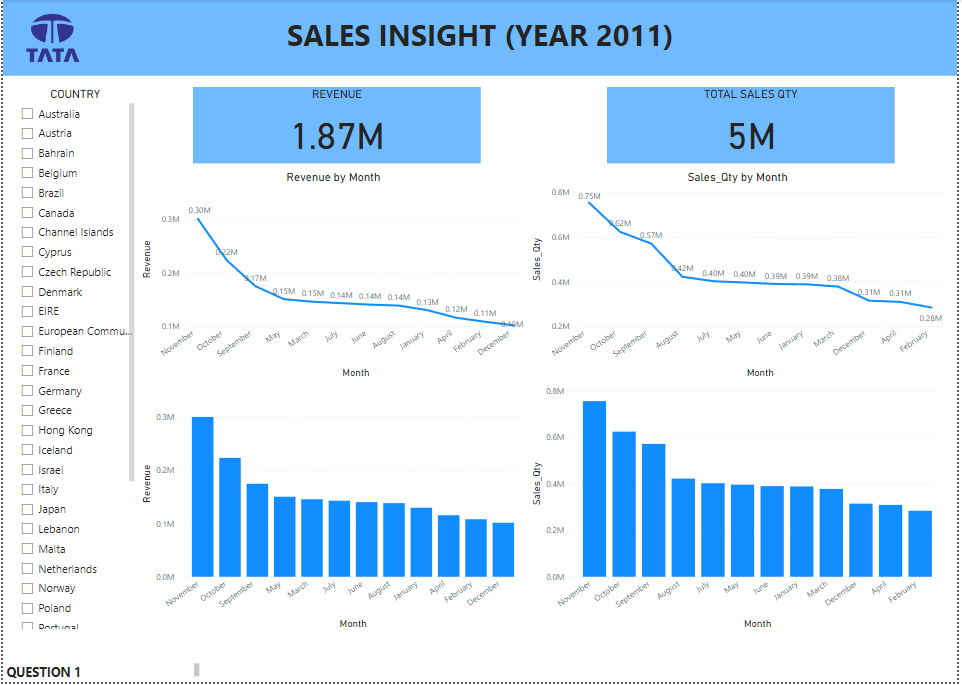

What the dashboard file says about the page in this screenshot:
{"tool":"powerbi","page":{"name":"Question 1","canvas":[1400,1000],"ordinal":0},"visuals":[{"type":"card","title":"REVENUE","fields":{"Values":["Base Measure.Revenue"]},"box":[278,127.3,422,112.2],"z":0},{"type":"card","title":"TOTAL SALES QTY","fields":{"Values":["Base Measure.Sales_Qty"]},"box":[885.9,127.3,422,112.2],"z":1000},{"type":"lineChart","fields":{"Category":["Online Retail.Month"],"Y":["Base Measure.Sales_Qty"]},"box":[770.3,249.5,614.6,309.8],"z":3000},{"type":"lineChart","fields":{"Y":["Base Measure.Revenue"],"Category":["Online Retail.Month"]},"box":[197.6,249.5,572.7,309.8],"z":4000},{"type":"slicer","title":"COUNTRY","fields":{"Values":["Online Retail.Country"]},"box":[15.1,127.3,182.5,800.5],"z":5000},{"type":"textbox","box":[0,0,1400,110.5],"z":6000},{"type":"lineClusteredColumnComboChart","fields":{"Category":["Online Retail.Month"],"Y":["Base Measure.Revenue"]},"box":[197.6,559.3,572.7,368.4],"z":7000},{"type":"lineClusteredColumnComboChart","fields":{"Category":["Online Retail.Month"],"Y":["Base Measure.Sales_Qty"]},"box":[770.3,559.3,614.6,368.4],"z":8000},{"type":"textbox","box":[0,967.9,293.1,31.8],"z":9000}]}

Visuals, with their boxes in screenshot pixels (x1, y1, x2, y2), scaled from the page's 1400x1000 canvas onto the 962x685 screenshot:
"REVENUE" card: [191,87,481,164]
"TOTAL SALES QTY" card: [609,87,899,164]
lineChart - Online Retail.Month x Base Measure.Sales_Qty: [529,171,952,383]
lineChart - Base Measure.Revenue x Online Retail.Month: [136,171,529,383]
"COUNTRY" slicer: [10,87,136,636]
textbox: [0,0,961,76]
lineClusteredColumnComboChart - Online Retail.Month x Base Measure.Revenue: [136,383,529,635]
lineClusteredColumnComboChart - Online Retail.Month x Base Measure.Sales_Qty: [529,383,952,635]
textbox: [0,663,201,684]
